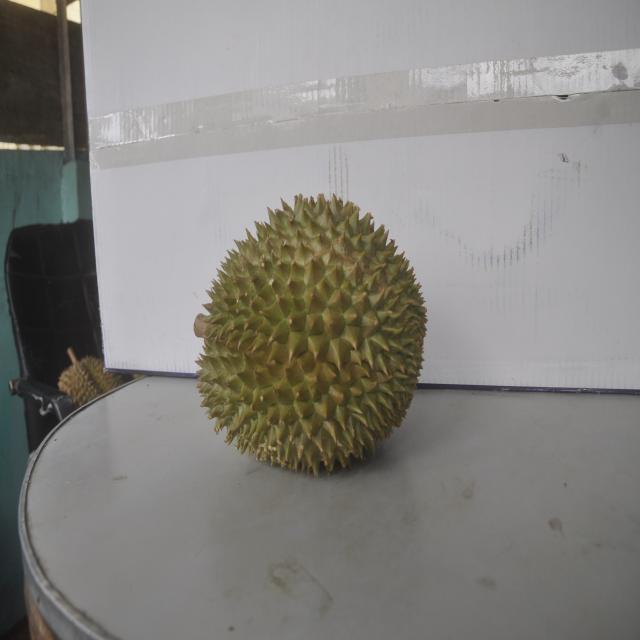mature: (199, 188, 428, 478), (57, 349, 131, 407)
